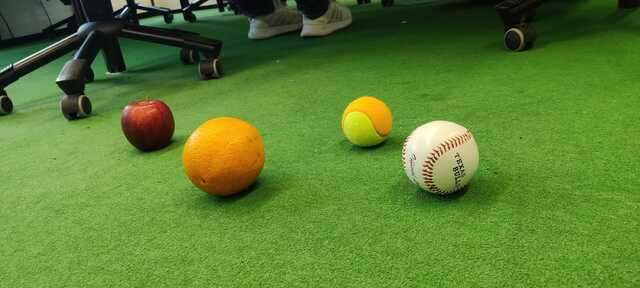013_apple: (121, 98, 176, 152)
017_orange: (181, 116, 267, 198)
055_baseball: (400, 120, 481, 195)
056_tennis_ball: (341, 95, 394, 147)
